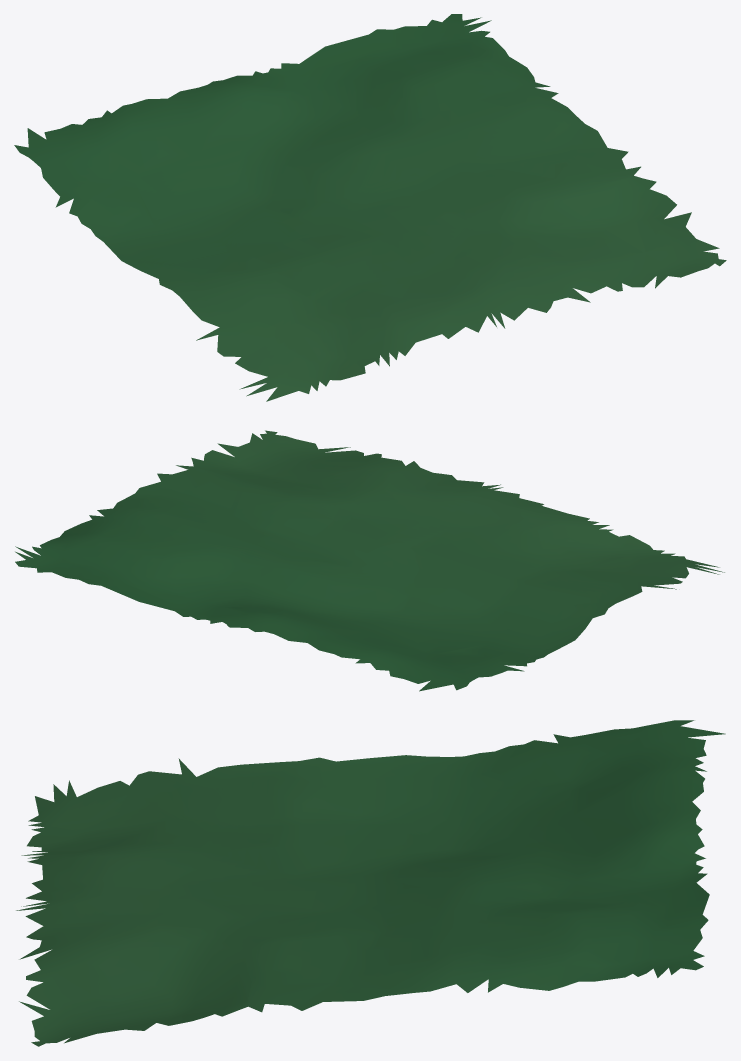
Rendered from payo_land_x1_y6_lod1.glb.
3 views of the same model, one above another, from view 1: azimuth 30°, elevation 25°; view 2: azimuth 150°, elevation 25°; view 3: azimuth 270°, elevation 25° (orthographic). The views are drawn at different scales.
Visible parts, largest first — view 1: payo_land_x1_y6; view 2: payo_land_x1_y6; view 3: payo_land_x1_y6.
Part boxes in pixels (bbox=[...]): payo_land_x1_y6: bbox=[14, 14, 726, 401]; payo_land_x1_y6: bbox=[15, 430, 724, 691]; payo_land_x1_y6: bbox=[16, 720, 725, 1046].
Bounding box in the file's own units: 275 × 46.84 × 275.
